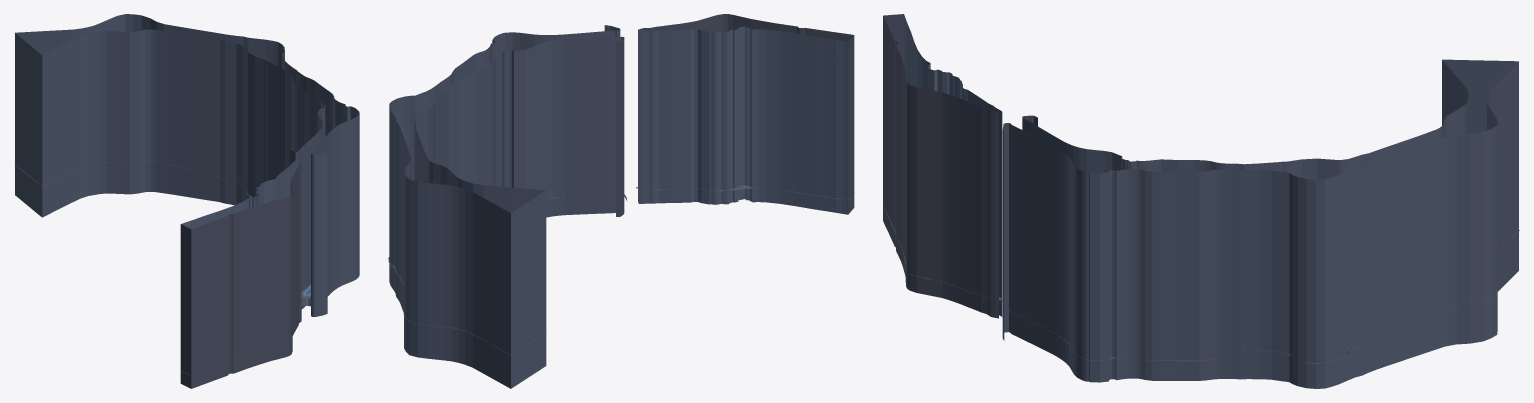
The model's file is MeshCollider_Lvl2.fbx.
The picture shows the model from 3 angles, left to right: view 1: azimuth 30°, elevation 25°; view 2: azimuth 150°, elevation 25°; view 3: azimuth 270°, elevation 25°; orthographic projection. The views are drawn at different scales.
Parts seen in each view (by area): view 1: Collider_Lvl2; view 2: Collider_Lvl2; view 3: Collider_Lvl2.
Boxes of the visible parts, left/top/right/bottom form: Collider_Lvl2: left=14, top=14, right=359, bottom=388; Collider_Lvl2: left=388, top=14, right=854, bottom=388; Collider_Lvl2: left=883, top=14, right=1519, bottom=388.
Size of the model in its own units: 212 by 126 by 344.
